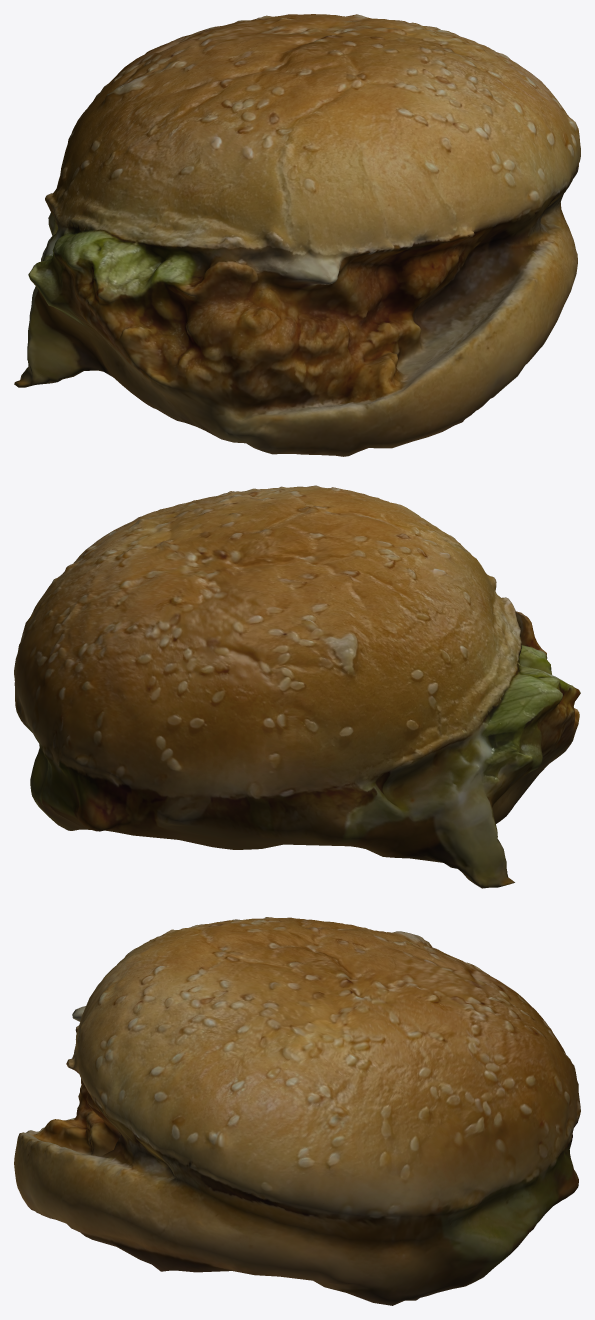
File: burger.glb
3 views of the same model, one above another, from view 1: azimuth 30°, elevation 25°; view 2: azimuth 150°, elevation 25°; view 3: azimuth 270°, elevation 25° (orthographic). The views are drawn at different scales.
Parts seen in each view (by area): view 1: 3DModel.obj; view 2: 3DModel.obj; view 3: 3DModel.obj.
Part boxes in pixels (x1=…): 3DModel.obj: x1=14, y1=14, x2=580, y2=456; 3DModel.obj: x1=14, y1=485, x2=580, y2=888; 3DModel.obj: x1=14, y1=917, x2=580, y2=1305.
Size of the model in its own units: 0.1117 by 0.0605 by 0.1113.
1 material, 1 textured.
